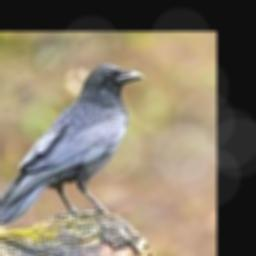Crow: (0, 62, 144, 225)
